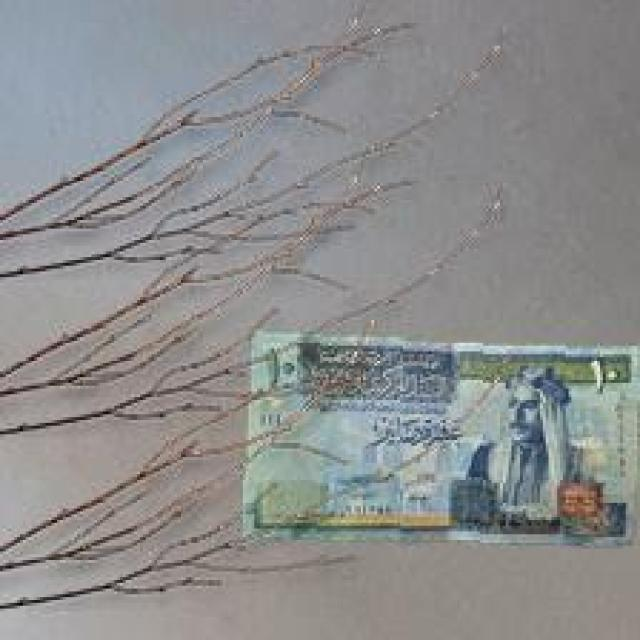10-dinar: (237, 329, 638, 549)
